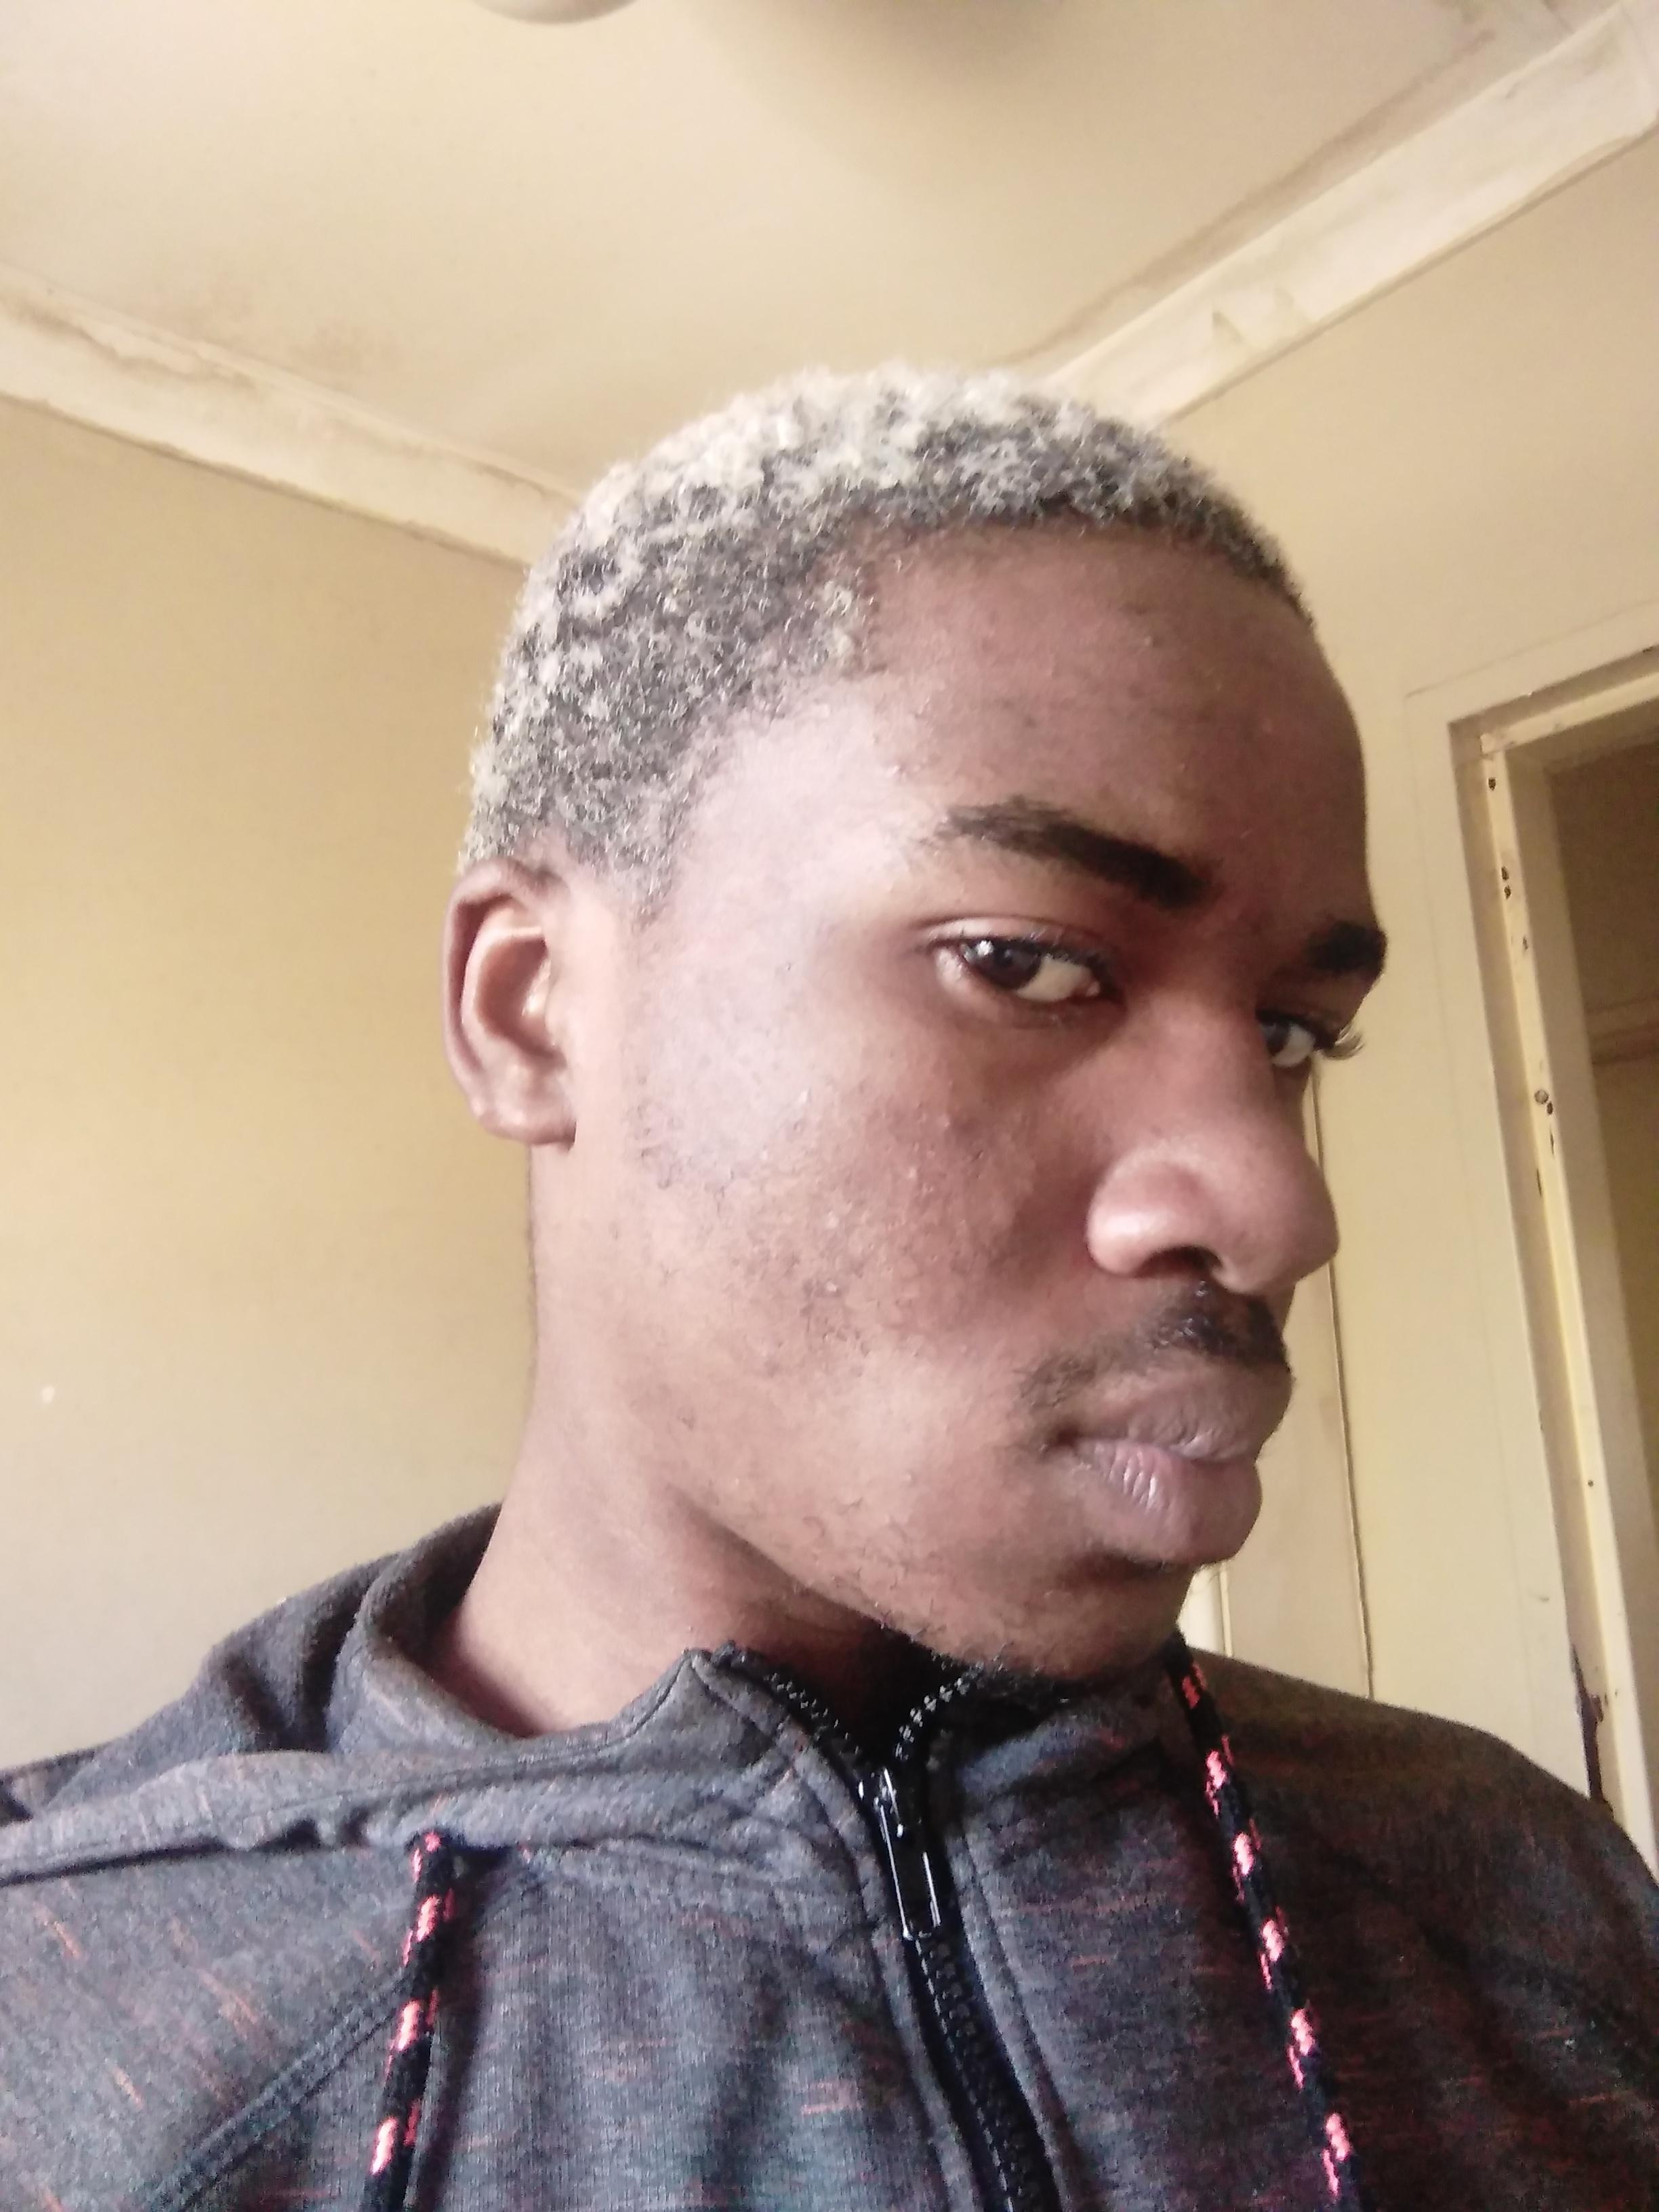Acne: (999, 1146, 1046, 1237), (999, 690, 1046, 726), (972, 611, 1009, 657), (746, 1350, 784, 1390), (1105, 603, 1161, 625), (911, 745, 945, 777), (1255, 709, 1284, 744), (1117, 678, 1147, 712), (875, 1508, 920, 1531), (978, 751, 1004, 784), (882, 756, 906, 791), (899, 1158, 925, 1190), (819, 1207, 845, 1238), (1164, 756, 1192, 782), (795, 1076, 816, 1109), (906, 693, 932, 719), (932, 1109, 958, 1134), (1040, 655, 1065, 681), (892, 1460, 922, 1480), (861, 728, 885, 752), (823, 1275, 845, 1299), (1147, 631, 1164, 651)
Englarged-Pores: (788, 1111, 1009, 1336)
